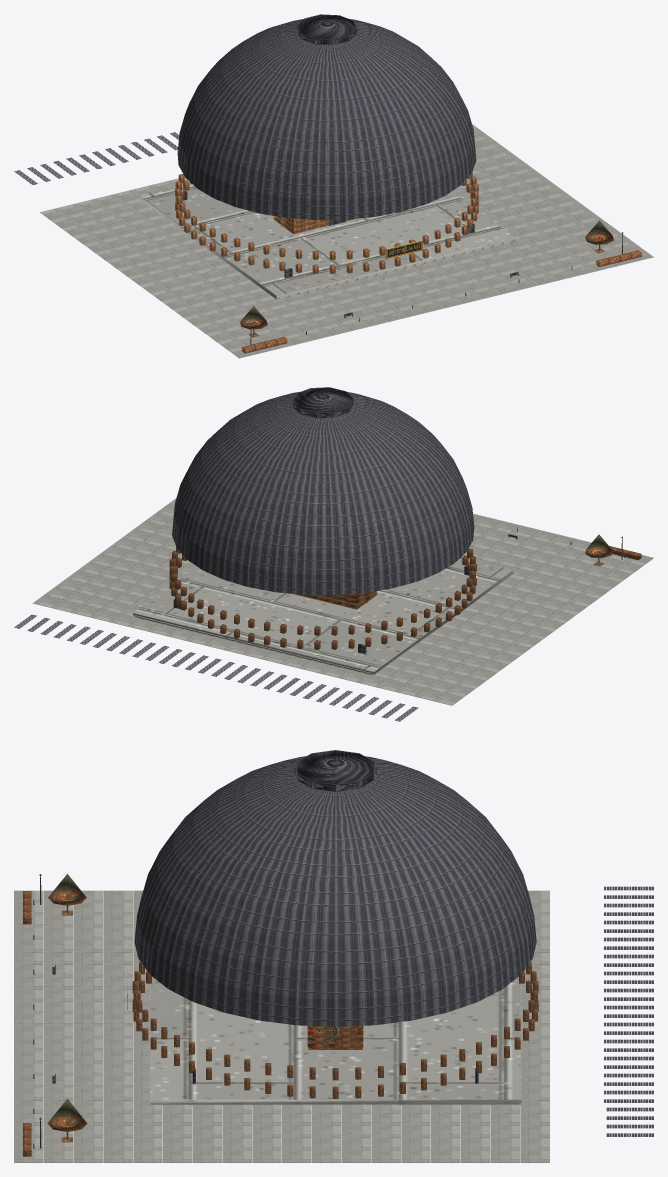
3 views of the same model, one above another, from view 1: azimuth 30°, elevation 25°; view 2: azimuth 150°, elevation 25°; view 3: azimuth 270°, elevation 25° (orthographic). The views are drawn at different scales.
Parts seen in each view (by area): view 1: 11140_02_04621_046_01__plinth_ground_base, 11140_02_04621_046_03__roof_deck_structure, 11140_02_04621_046_05__window_sash_glass, 11140_02_04621_046_06__landscape_greenery, 11140_02_04621_046_03__roof_metal_ornament; view 2: 11140_02_04621_046_03__roof_deck_structure, 11140_02_04621_046_01__plinth_ground_base, 11140_02_04621_046_05__window_sash_glass, 11140_02_04621_046_03__roof_metal_ornament, 11140_02_04621_046_06__landscape_greenery, 11140_02_04621_046_02__mass_body_facade; view 3: 11140_02_04621_046_01__plinth_ground_base, 11140_02_04621_046_03__roof_deck_structure, 11140_02_04621_046_05__window_sash_glass, 11140_02_04621_046_03__roof_metal_ornament, 11140_02_04621_046_06__landscape_greenery, 11140_02_04621_046_02__mass_body_facade.
Part boxes in pixels (x1,y1,x2,y2): 11140_02_04621_046_01__plinth_ground_base: [40, 124, 653, 358]; 11140_02_04621_046_03__roof_deck_structure: [14, 19, 476, 220]; 11140_02_04621_046_05__window_sash_glass: [175, 171, 478, 273]; 11140_02_04621_046_06__landscape_greenery: [240, 220, 641, 353]; 11140_02_04621_046_03__roof_metal_ornament: [297, 14, 357, 44]; 11140_02_04621_046_03__roof_deck_structure: [14, 391, 474, 721]; 11140_02_04621_046_01__plinth_ground_base: [32, 498, 653, 705]; 11140_02_04621_046_05__window_sash_glass: [169, 546, 476, 649]; 11140_02_04621_046_03__roof_metal_ornament: [292, 387, 353, 418]; 11140_02_04621_046_06__landscape_greenery: [585, 534, 641, 566]; 11140_02_04621_046_02__mass_body_facade: [293, 591, 377, 609]; 11140_02_04621_046_01__plinth_ground_base: [14, 890, 549, 1162]; 11140_02_04621_046_03__roof_deck_structure: [134, 756, 653, 1136]; 11140_02_04621_046_05__window_sash_glass: [132, 962, 538, 1098]; 11140_02_04621_046_03__roof_metal_ornament: [294, 750, 376, 791]; 11140_02_04621_046_06__landscape_greenery: [23, 874, 87, 1156]; 11140_02_04621_046_02__mass_body_facade: [308, 1026, 363, 1049].
Size of the model in its own units: 95.95 by 43.65 by 95.47.
Materials: 7 (7 with a texture image).
